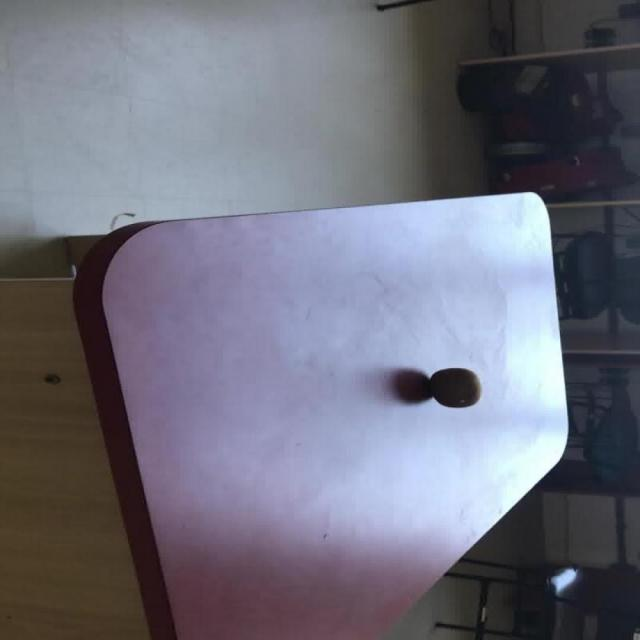Kiwi: (428, 367, 480, 408)
